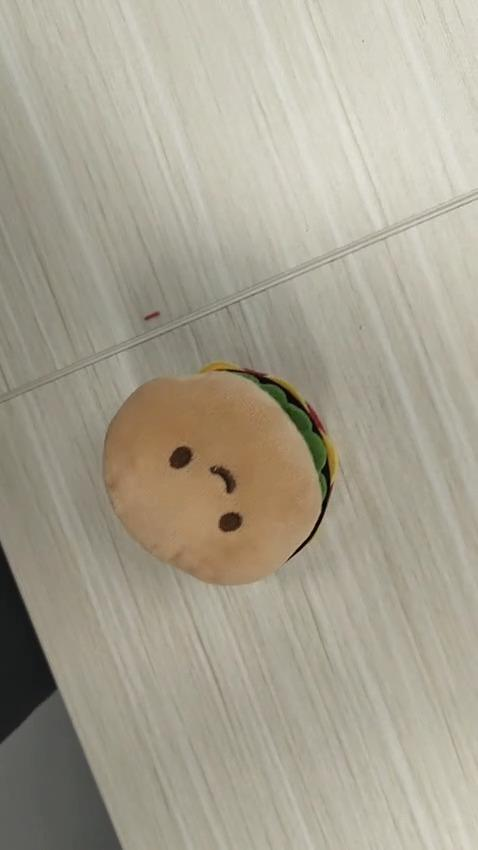hamburger: (104, 361, 337, 585)
